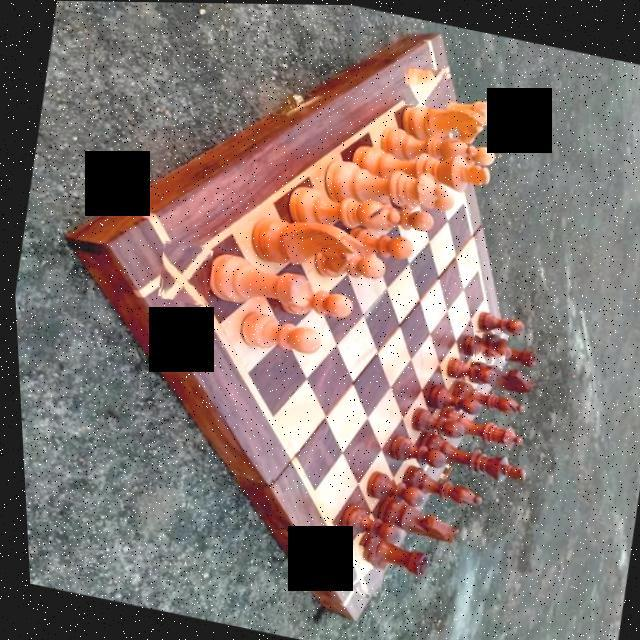chess-table-corners: (150, 239, 213, 306), (321, 539, 382, 598), (398, 61, 454, 112), (466, 328, 506, 366)
